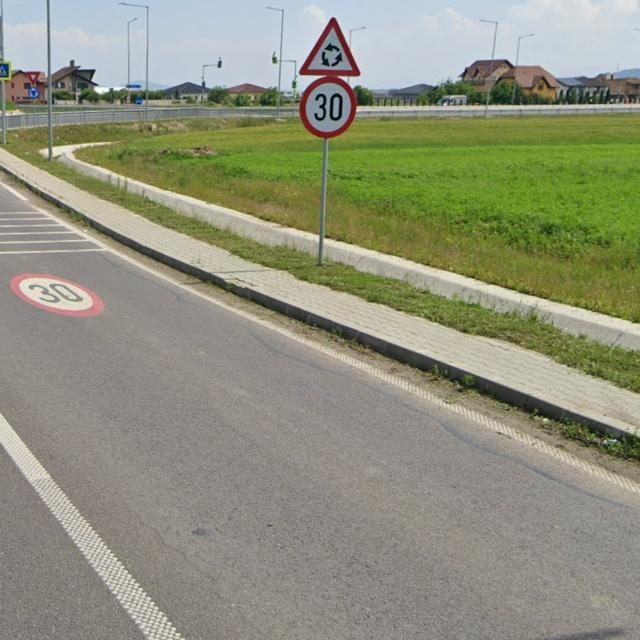forb_speed_over_30: (9, 272, 110, 320), (297, 78, 358, 138)
info_crosswalk: (0, 61, 11, 80)
prio_give_way: (26, 72, 41, 86)
